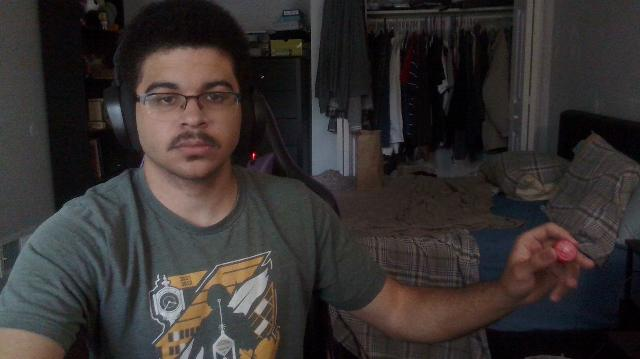cap: (554, 240, 576, 263)
